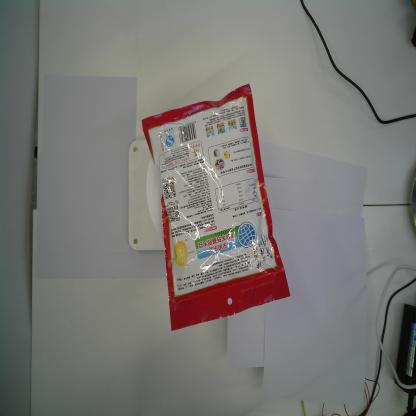Instant Drink: (142, 83, 290, 332)
